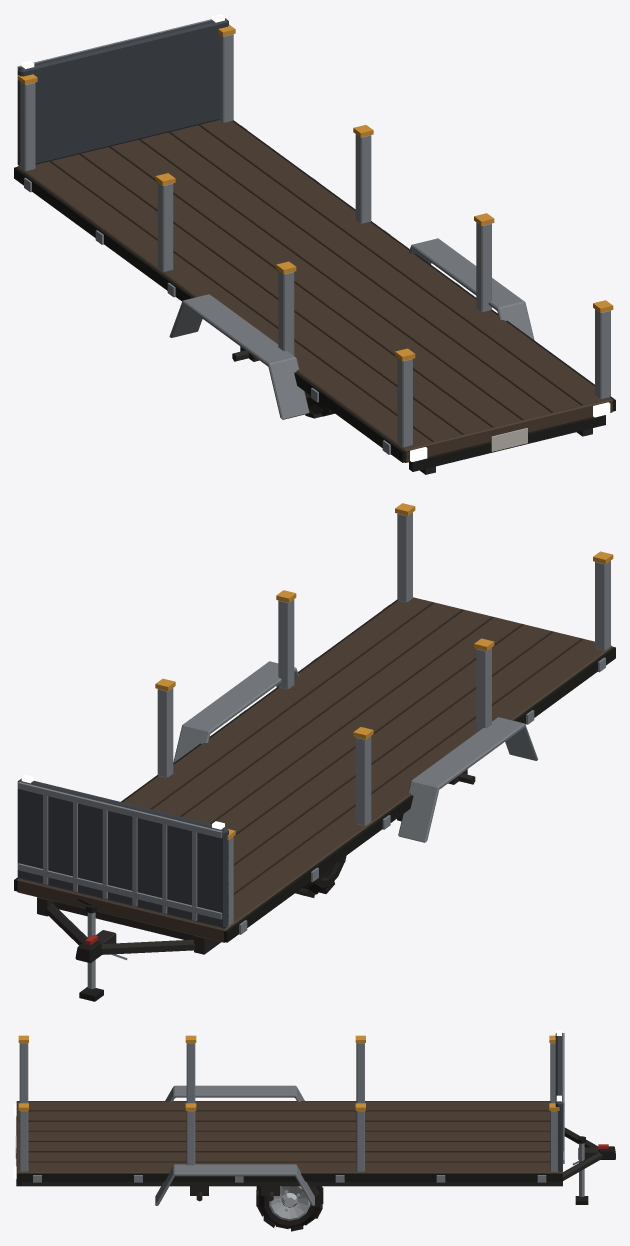
The model's file is HeavyHauler_Rustbucket.glb.
The picture shows the model from 3 angles, top to bottom: view 1: azimuth 30°, elevation 25°; view 2: azimuth 150°, elevation 25°; view 3: azimuth 270°, elevation 25°; orthographic projection. The views are drawn at different scales.
Visible parts, largest first — view 1: Bed, Body, Lights; view 2: Bed, Body, Hitch, Wheel; view 3: Bed, Body, Wheel, Hitch.
Part boxes in pixels (left/top/right/bottom): Bed: left=14, top=18, right=615, bottom=462; Body: left=169, top=238, right=605, bottom=474; Lights: left=21, top=14, right=610, bottom=461; Bed: left=14, top=503, right=615, bottom=942; Body: left=37, top=661, right=538, bottom=954; Hitch: left=46, top=898, right=208, bottom=1001; Wheel: left=295, top=856, right=346, bottom=897; Bed: left=16, top=1033, right=564, bottom=1182; Body: left=15, top=1085, right=562, bottom=1205; Wheel: left=256, top=1186, right=323, bottom=1231; Hitch: left=557, top=1127, right=615, bottom=1204.
Bounding box in the file's own units: 9.92 × 8.58 × 28.64.
